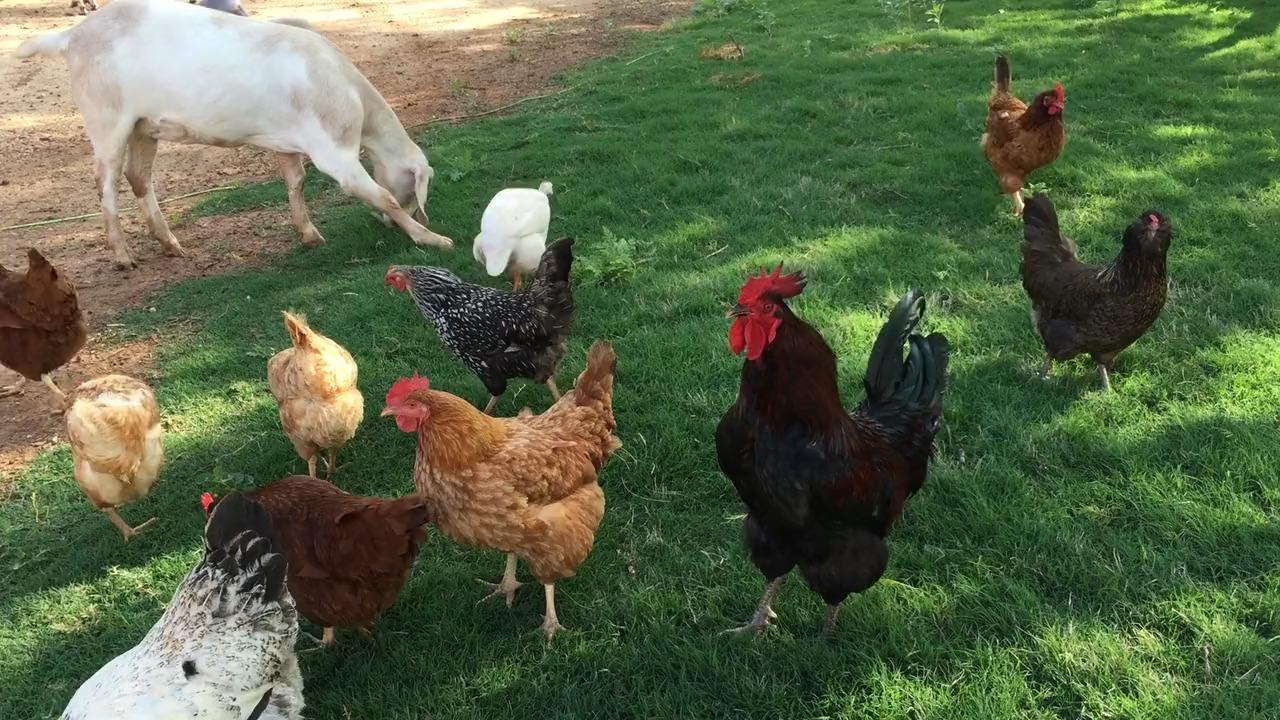Normal: (719, 267, 942, 643), (383, 372, 624, 640), (383, 235, 593, 400), (1019, 189, 1179, 400), (265, 312, 365, 480), (980, 52, 1067, 196)
